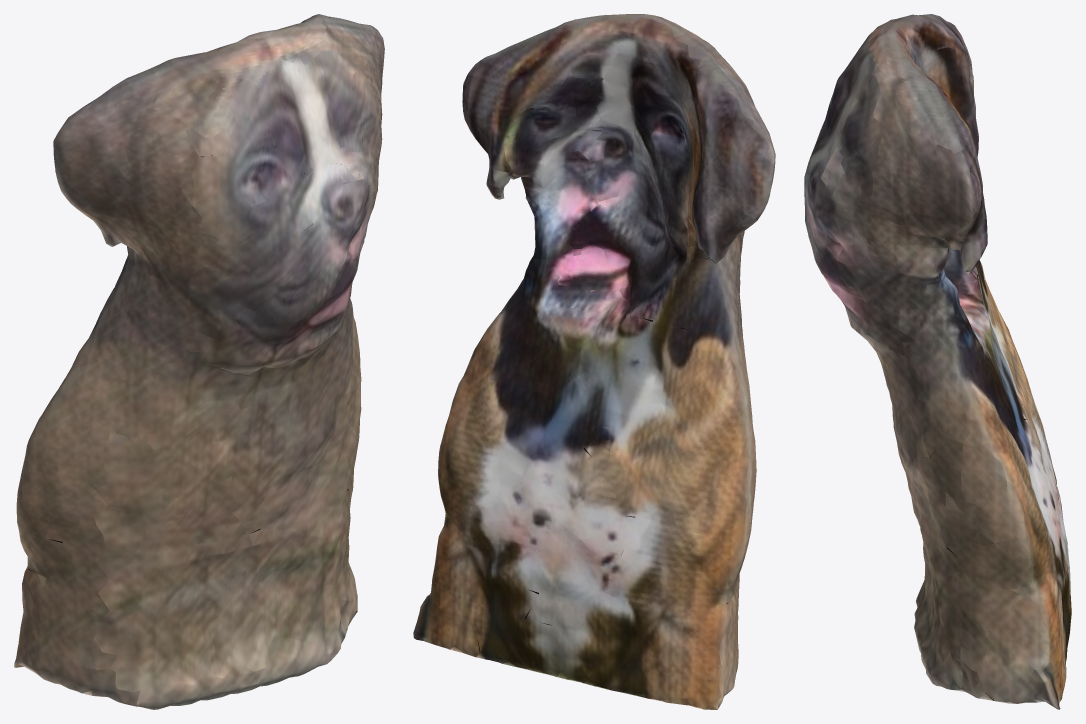
File: charley.glb
3 renders of one model, left to right at view 1: azimuth 30°, elevation 25°; view 2: azimuth 150°, elevation 25°; view 3: azimuth 270°, elevation 25°, orthographic. The views are drawn at different scales.
Parts seen in each view (by area): view 1: world; view 2: world; view 3: world.
Part boxes in pixels (box(x1,y1,x2,y2)): world: box(14, 14, 384, 709); world: box(413, 14, 775, 709); world: box(804, 14, 1071, 709).
Size of the model in its own units: 0.5067 by 0.9435 by 0.3697.
1 material, 1 textured.
